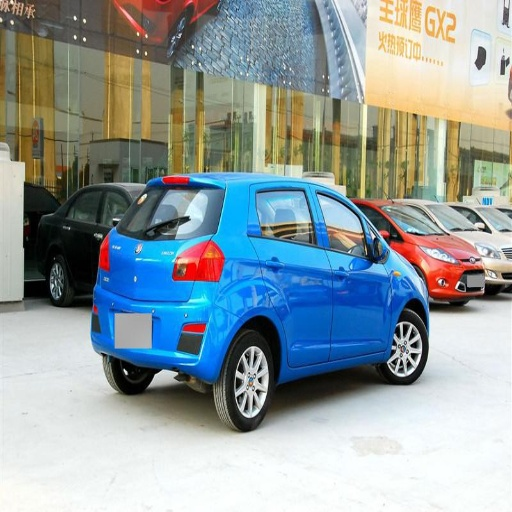back_bumper: (90, 285, 230, 378)
trunk: (101, 241, 205, 333)
